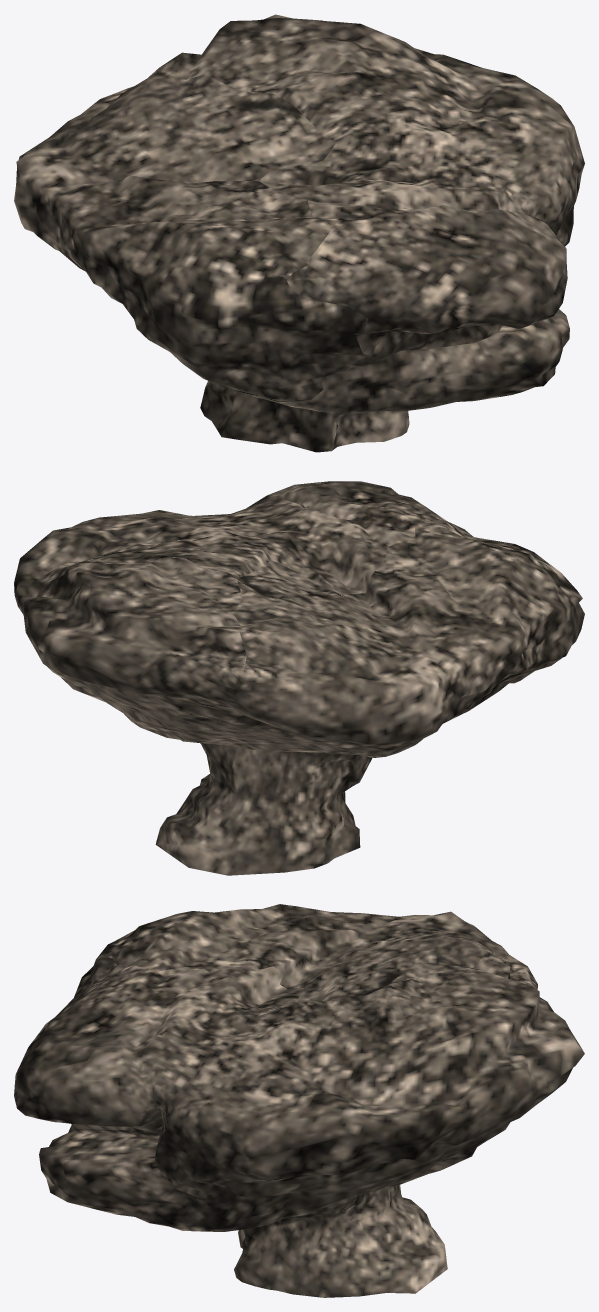
The model's file is SM_ION_CircleRock_01.fbx.
3 views of the same model, one above another, from view 1: azimuth 30°, elevation 25°; view 2: azimuth 150°, elevation 25°; view 3: azimuth 270°, elevation 25° (orthographic). The views are drawn at different scales.
Visible parts, largest first — view 1: SM_ION_CircleRock_01.mo; view 2: SM_ION_CircleRock_01.mo; view 3: SM_ION_CircleRock_01.mo.
Boxes of the visible parts, bbox=[...] form: SM_ION_CircleRock_01.mo: bbox=[14, 14, 584, 452]; SM_ION_CircleRock_01.mo: bbox=[14, 481, 584, 875]; SM_ION_CircleRock_01.mo: bbox=[14, 904, 584, 1297].
Size of the model in its own units: 582 by 343 by 619.
